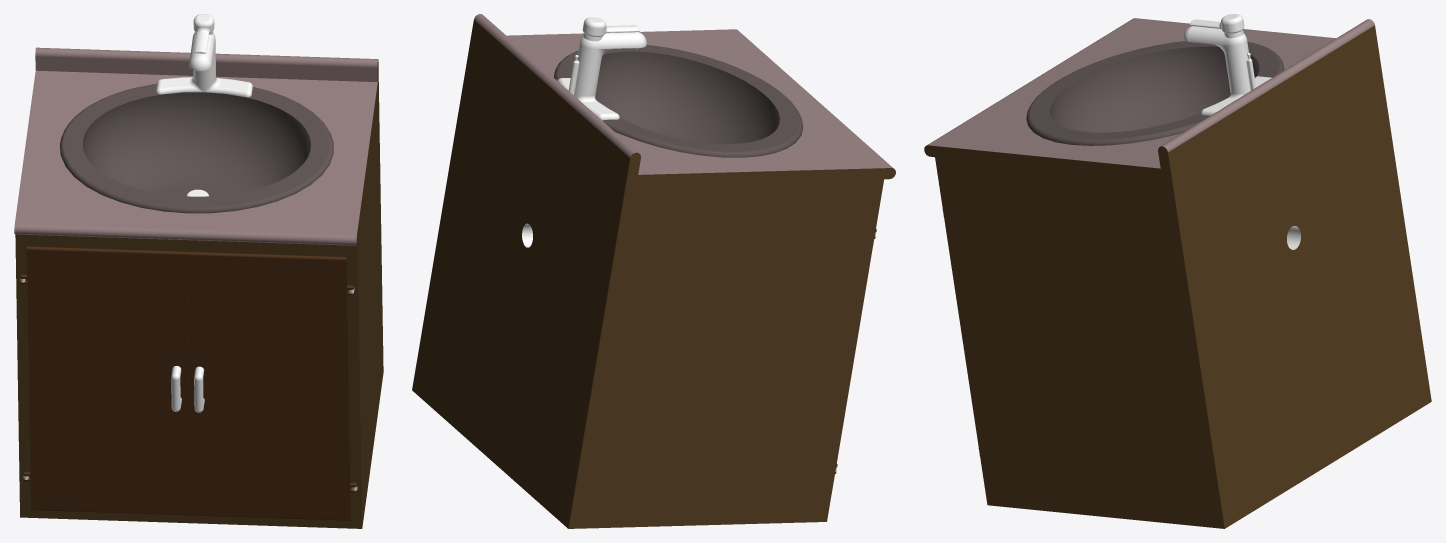
File: sink.glb
3 views of the same model, side by side, from view 1: azimuth 30°, elevation 25°; view 2: azimuth 150°, elevation 25°; view 3: azimuth 270°, elevation 25° (orthographic). The views are drawn at different scales.
Parts seen in each view (by area): view 1: Object_6, Object_4, Object_5, Object_3, Object_7; view 2: Object_3, Object_5, Object_4, Object_7; view 3: Object_3, Object_5, Object_4, Object_7.
Boxes of the visible parts, x1,y1,x2,y2 form: Object_6: [20, 246, 357, 520]; Object_4: [14, 47, 377, 245]; Object_5: [60, 83, 333, 213]; Object_3: [15, 59, 383, 528]; Object_7: [20, 14, 357, 490]; Object_3: [412, 20, 895, 528]; Object_5: [554, 45, 802, 157]; Object_4: [474, 14, 893, 174]; Object_7: [522, 17, 876, 471]; Object_3: [924, 25, 1431, 528]; Object_5: [1026, 41, 1284, 145]; Object_4: [927, 18, 1374, 168]; Object_7: [943, 14, 1300, 450].
Bounding box in the file's own units: 104 × 106 × 104.
